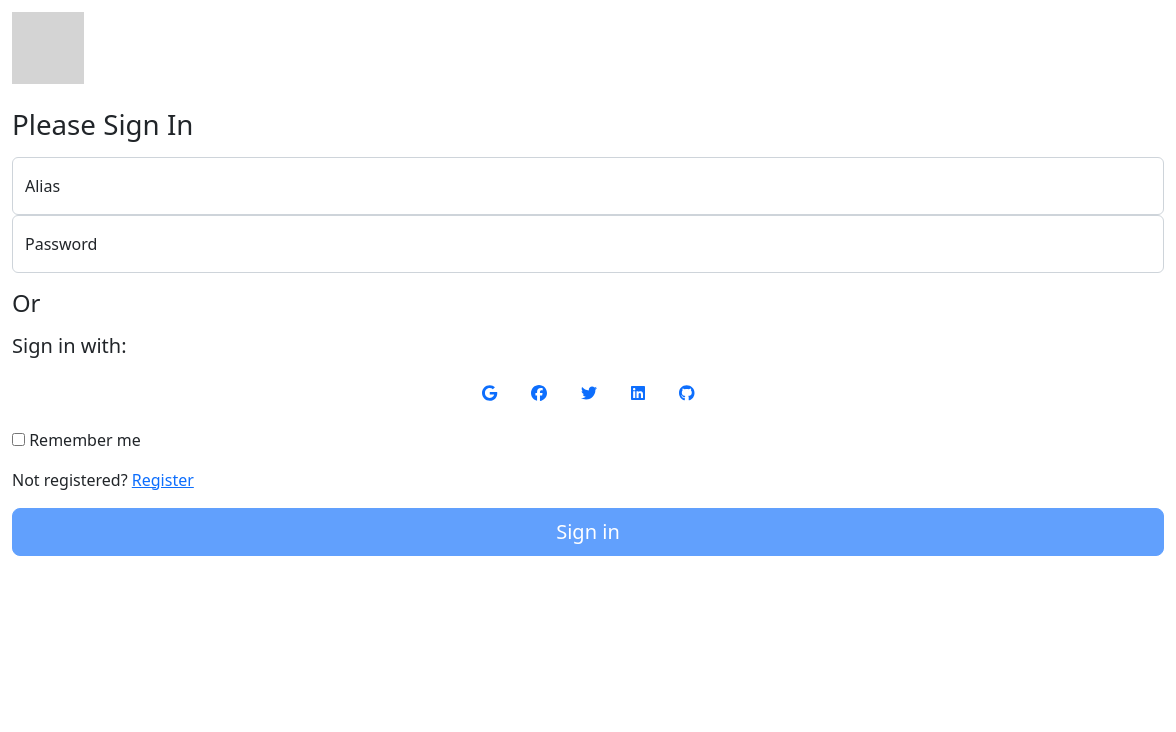
Test: Login Component › disabled the sign in button if either field is cleared
Type "a" into the field labelled "Alias" at x=588, y=186, box [12,157,1164,215]
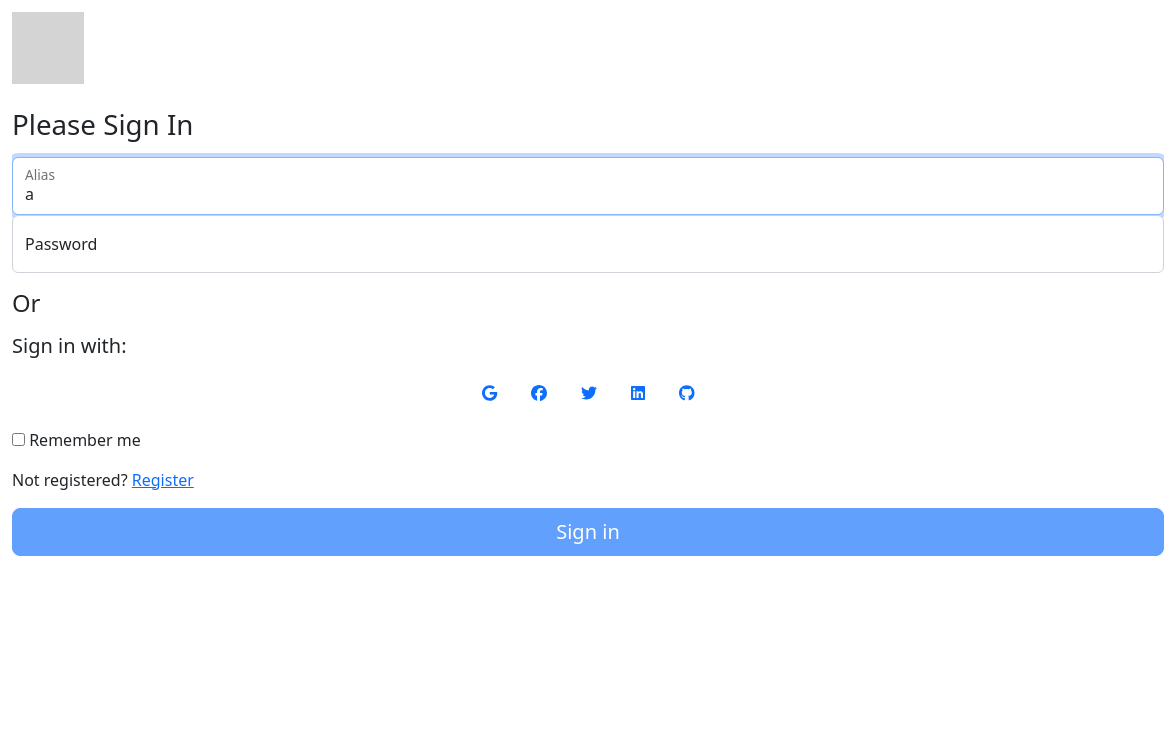
Type "b" into the password field labelled "Password" at x=588, y=244, box [12,215,1164,273]
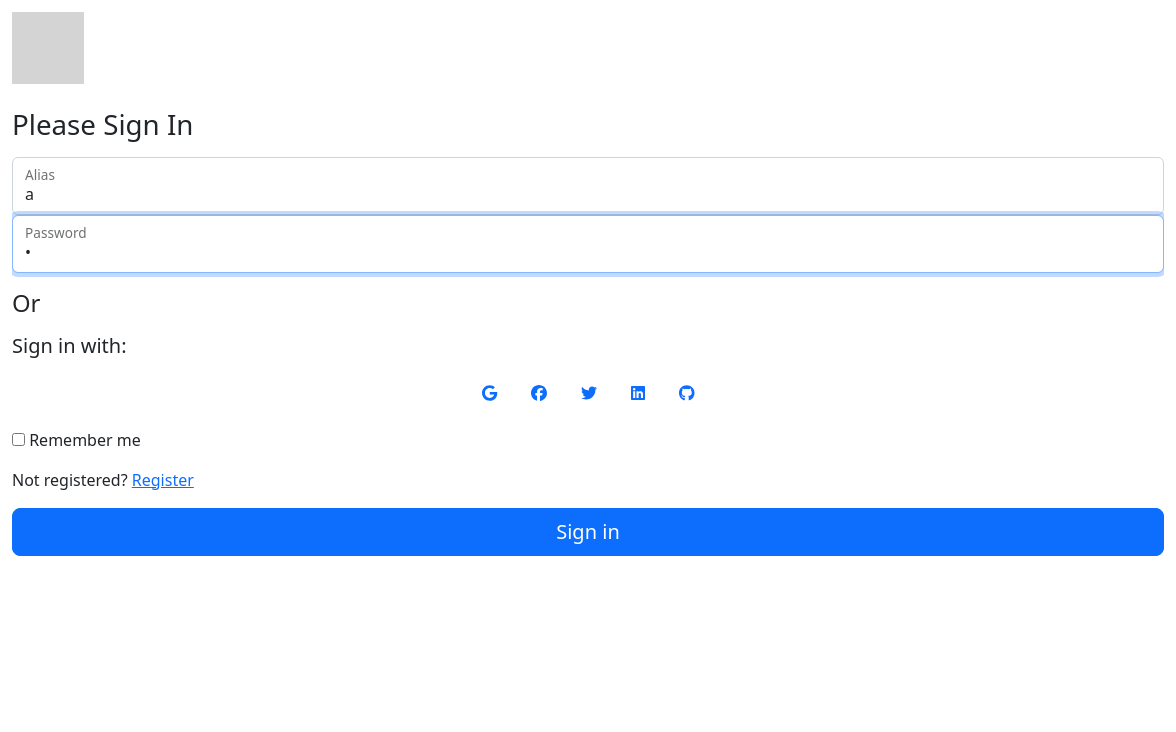
Now the button "Sign in" is enabled, box [12,508,1164,556]
Clear the field labelled "Alias" at x=588, y=186, box [12,157,1164,215]
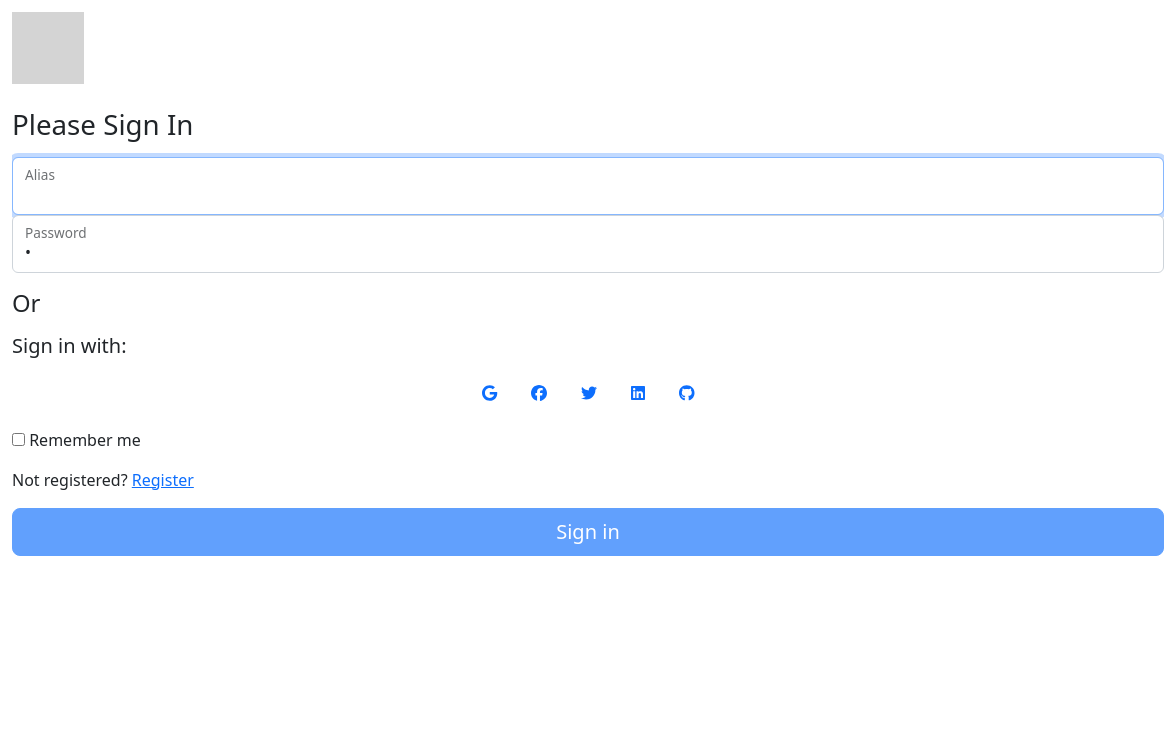
Now the button "Sign in" is disabled, box [12,508,1164,556]
Type "1" into the field labelled "Alias" at x=588, y=186, box [12,157,1164,215]
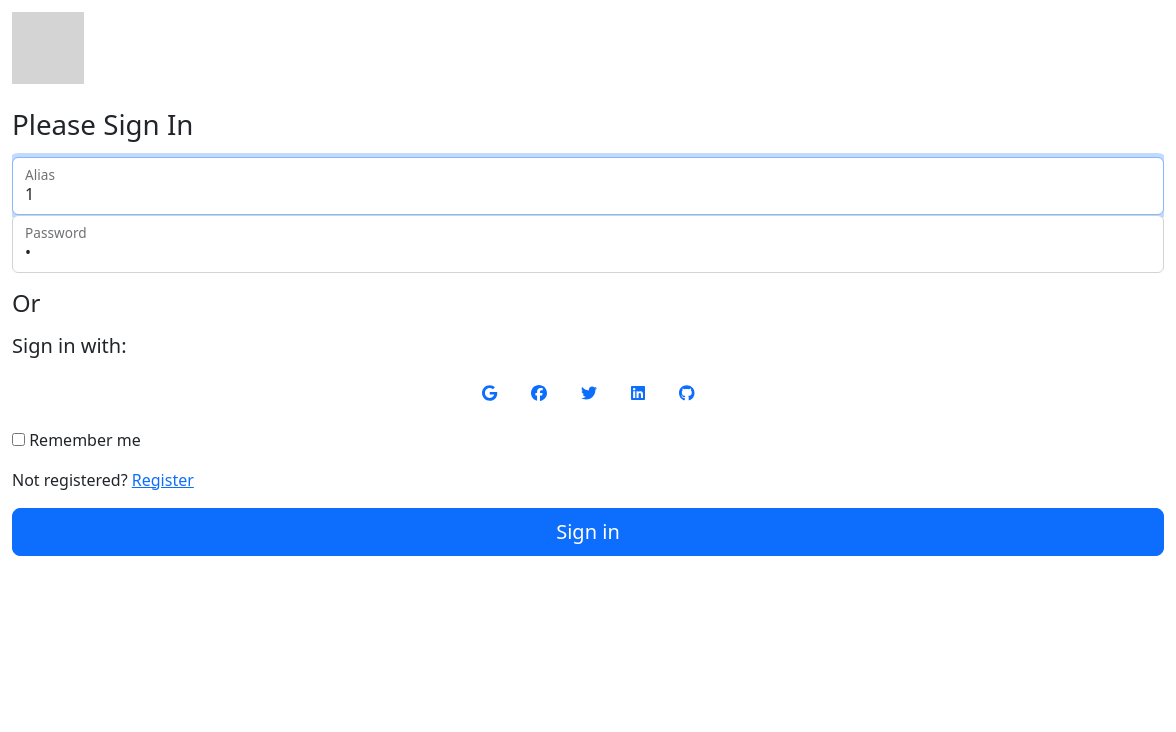
Now the button "Sign in" is enabled, box [12,508,1164,556]
Clear the password field labelled "Password" at x=588, y=244, box [12,215,1164,273]
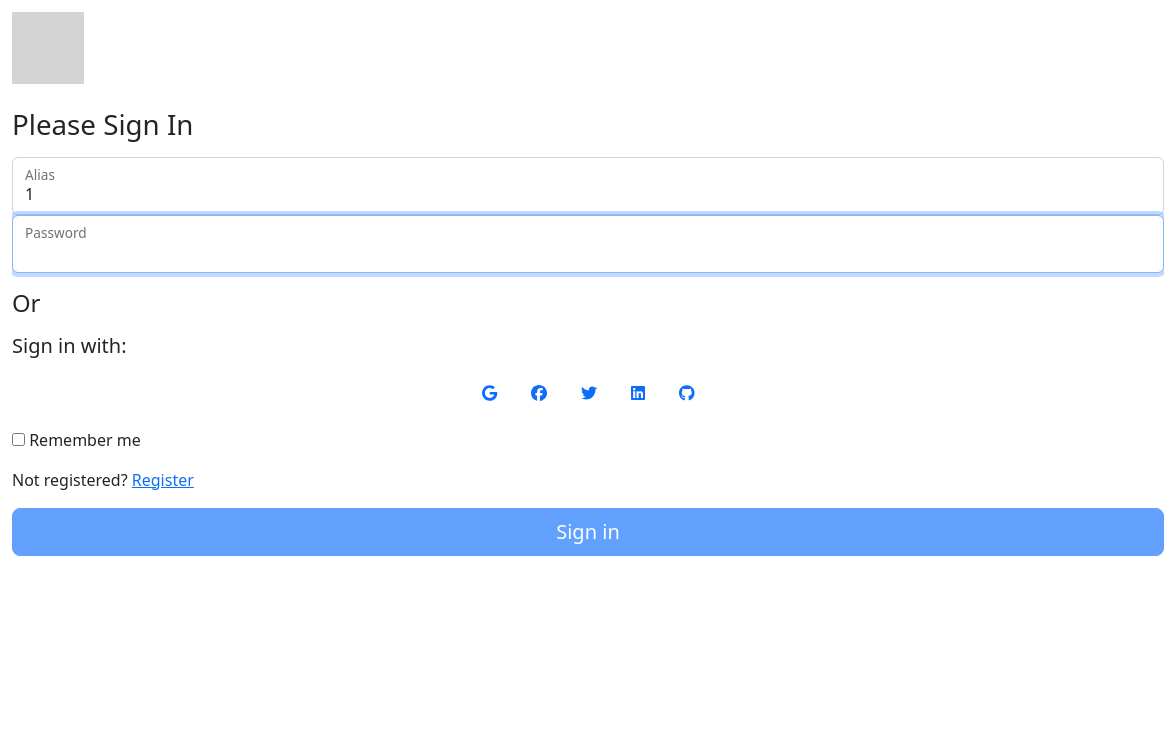
Now the button "Sign in" is disabled, box [12,508,1164,556]
